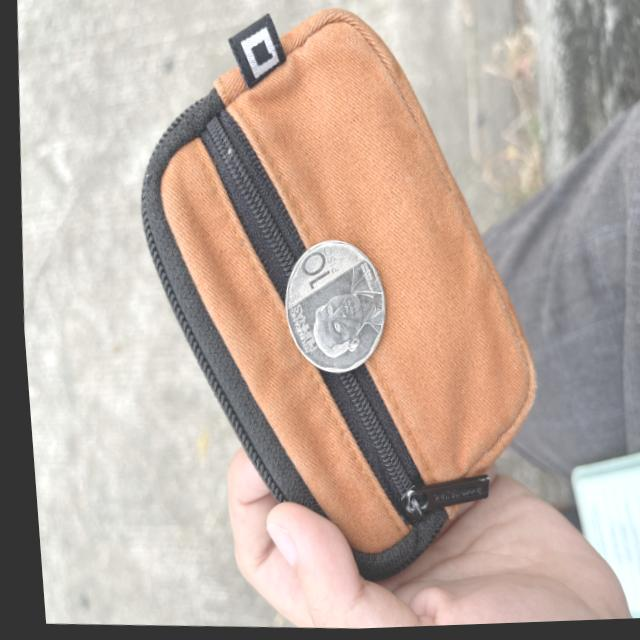10_New_Front: (290, 243, 342, 298)
